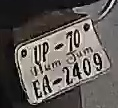0: (73, 27, 83, 48), (83, 56, 92, 77)
2: (62, 65, 73, 85)
4: (70, 62, 83, 82)
7: (66, 31, 74, 52)
9: (91, 51, 104, 72)
A: (40, 76, 54, 95)
E: (32, 80, 43, 99)
P: (41, 42, 51, 64)
U: (33, 43, 42, 66)
